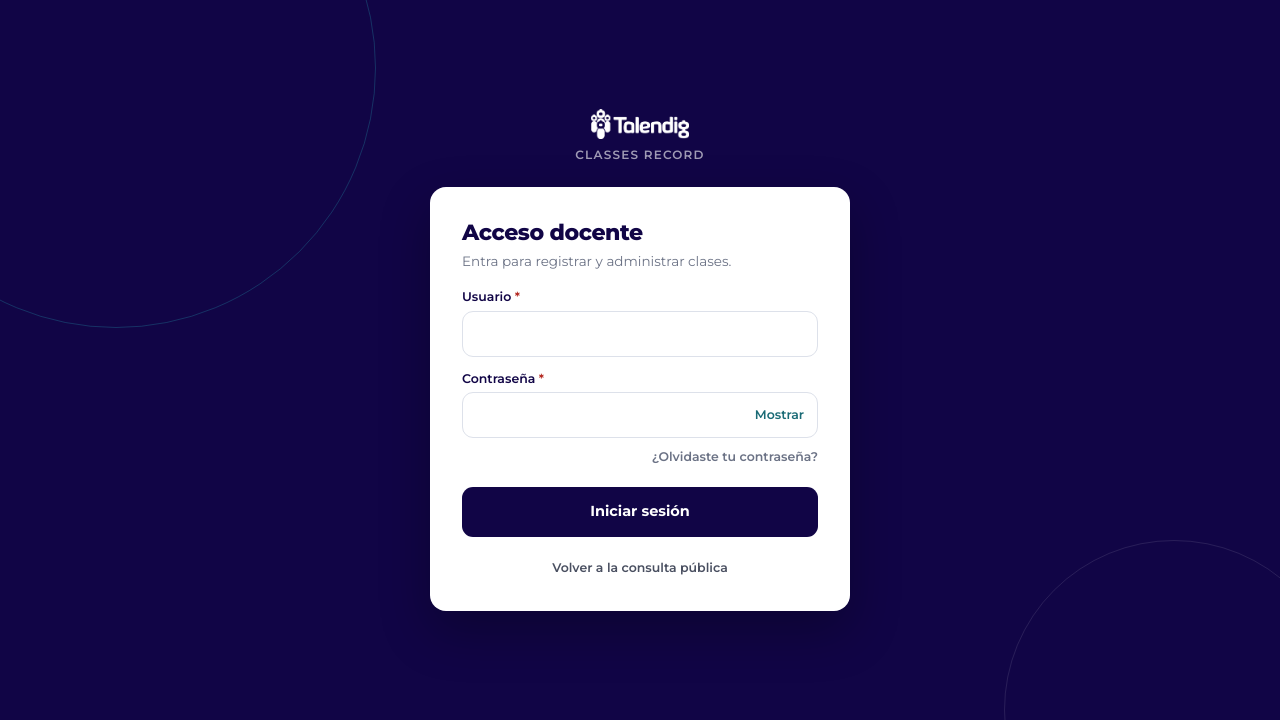
Test: LoginPage › asks for a password once a username is present
The width and height of the screenshot is (1280, 720).
Type "yokasta.reyes" into the field labelled "Usuario *" at (640, 334), box [462,310,818,356]
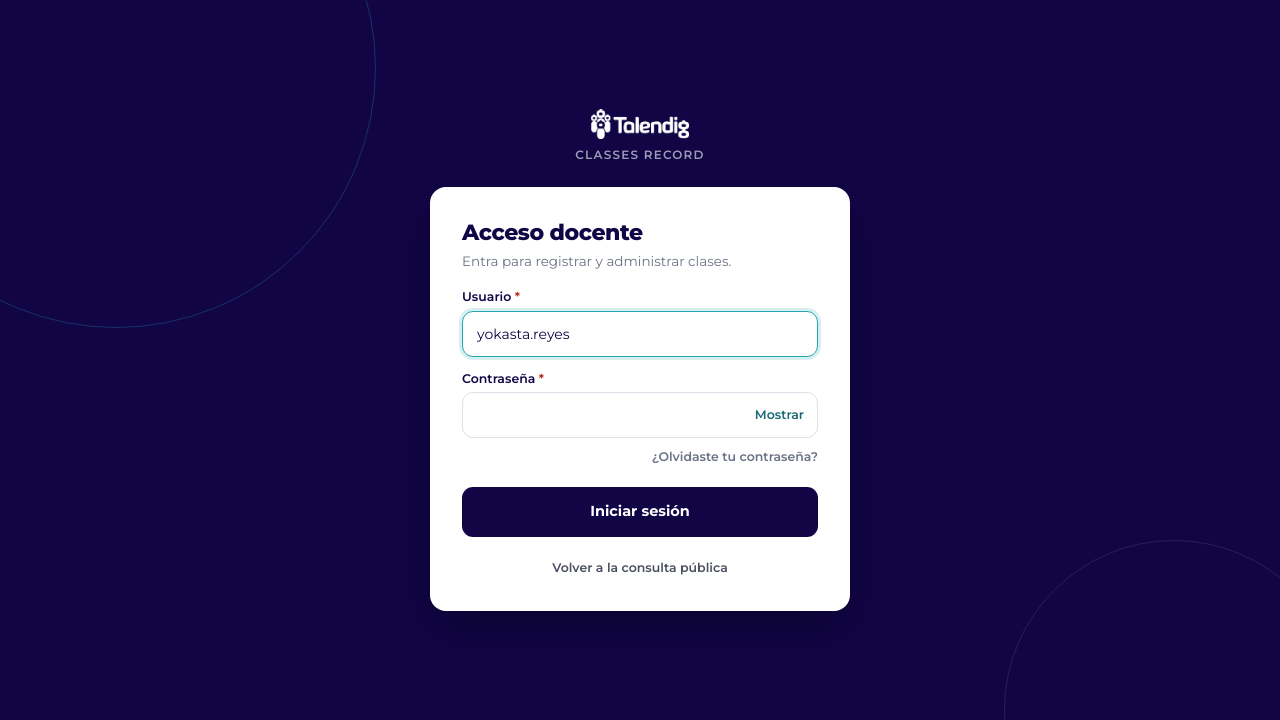
Click the button "Iniciar sesión" at (640, 512), box [462,487,818,537]
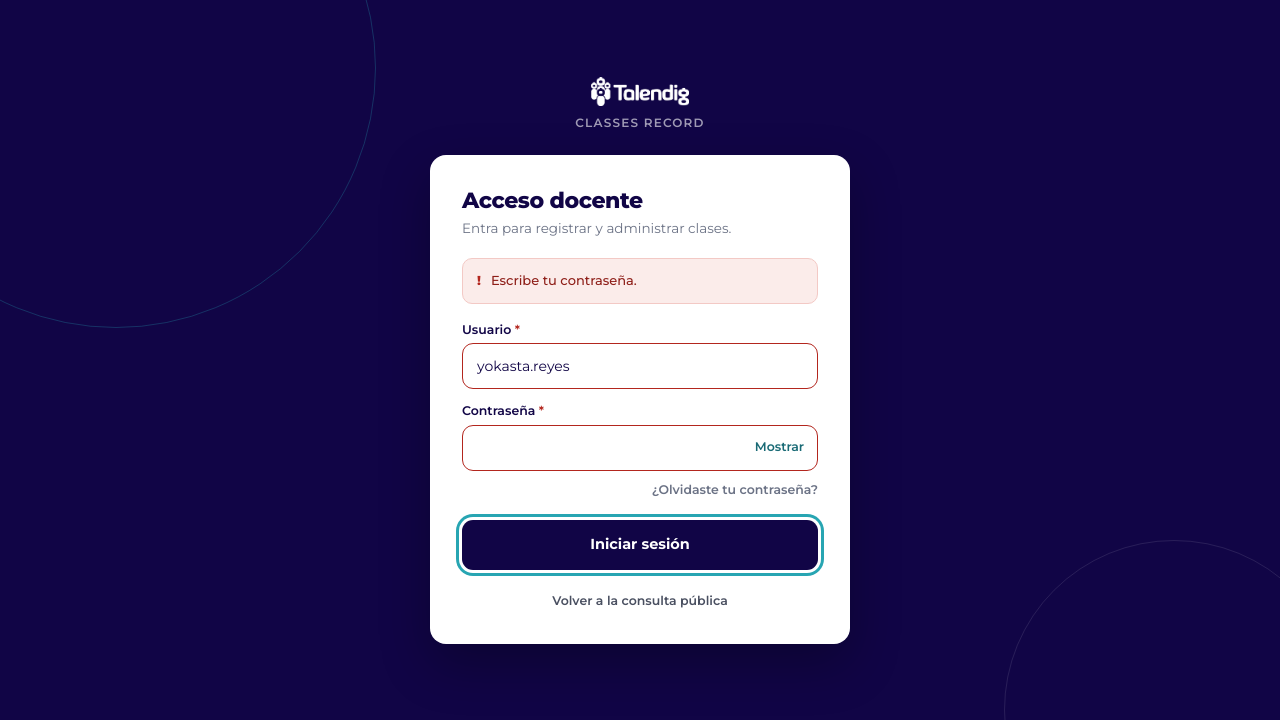
Result: the text "Escribe tu contraseña." is shown at [491,271,637,291]
